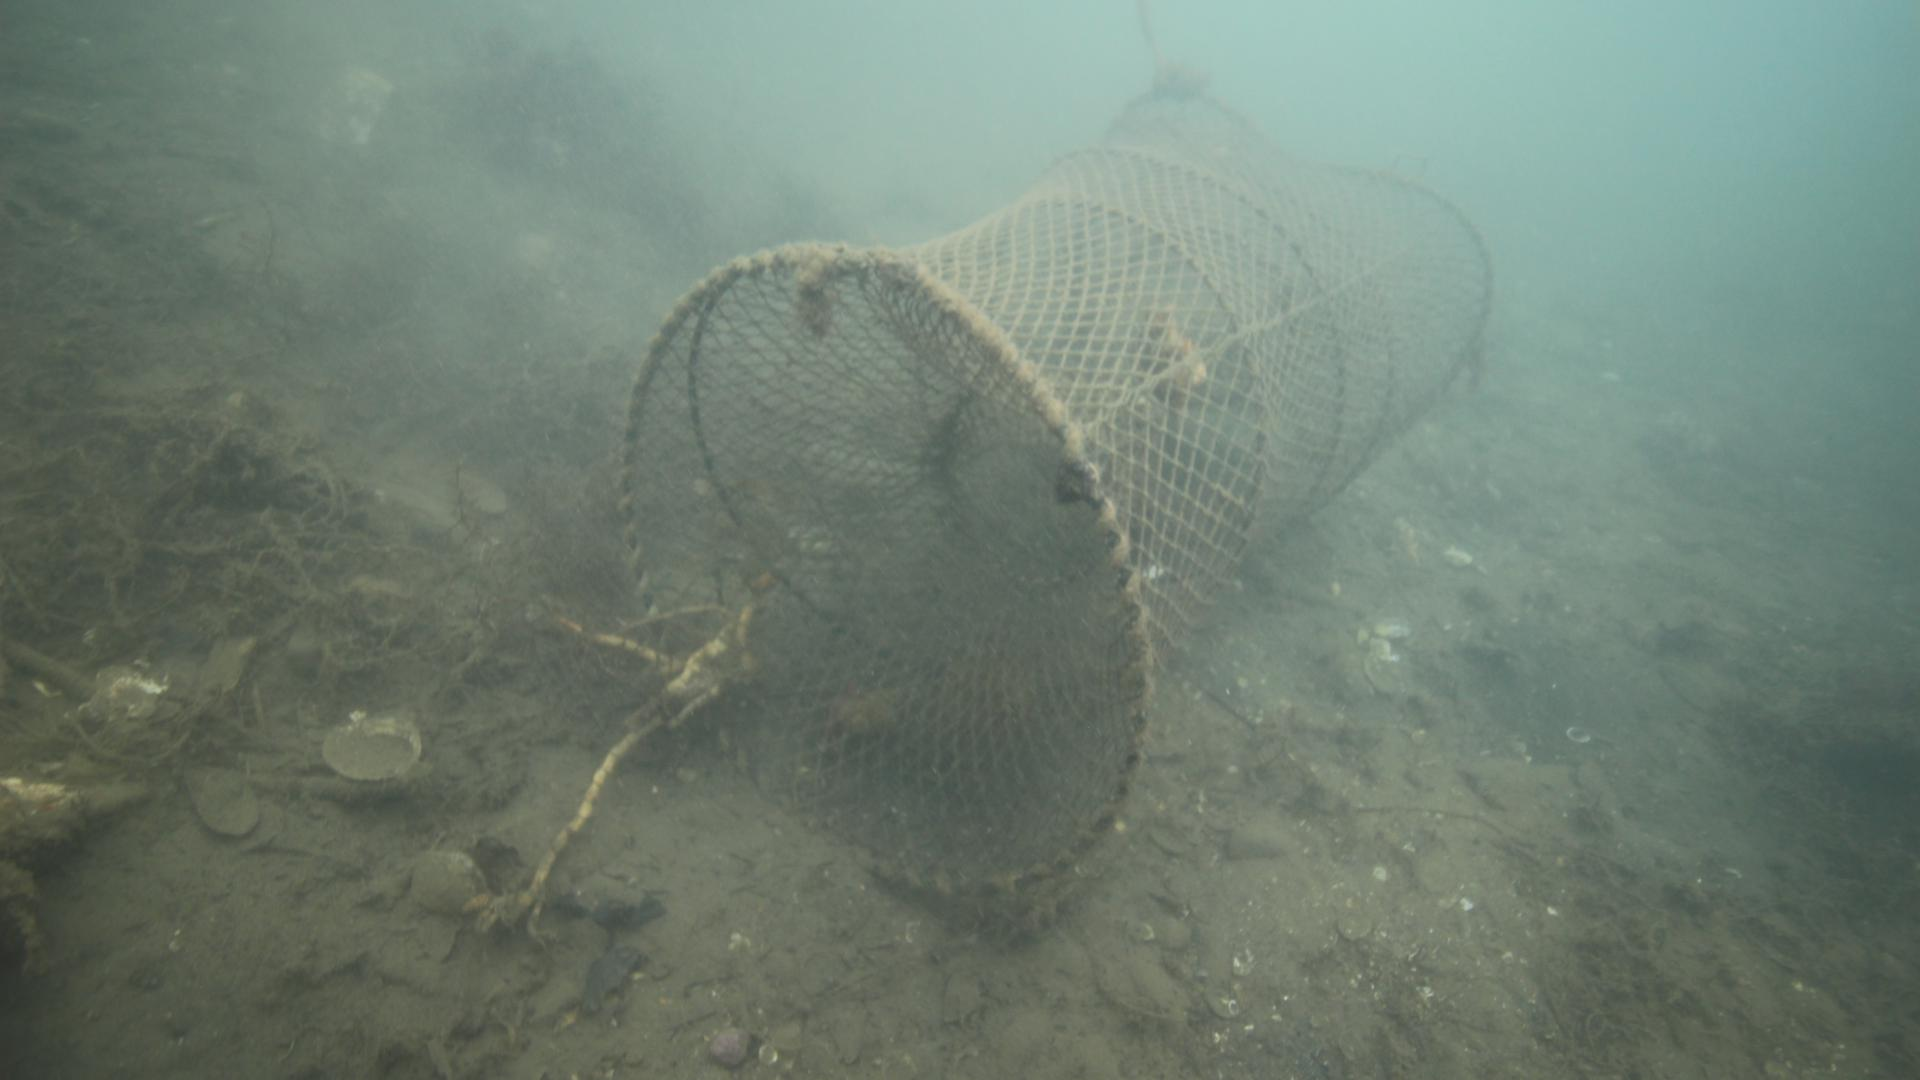spring fish trap: (615, 76, 1495, 903)
